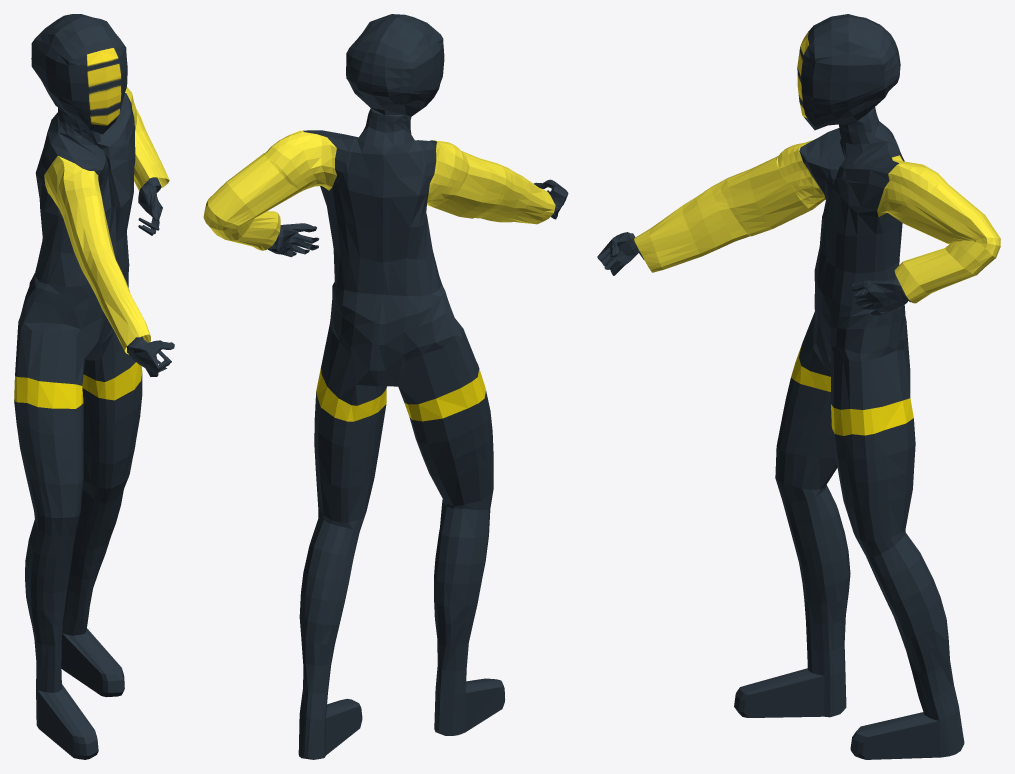
File: Sentry_WB_000013.obj
3 views of the same model, side by side, from view 1: azimuth 30°, elevation 25°; view 2: azimuth 150°, elevation 25°; view 3: azimuth 270°, elevation 25° (orthographic). The views are drawn at different scales.
Visible parts, largest first — view 1: Cube; view 2: Cube; view 3: Cube.
Boxes of the visible parts, x1=… form: Cube: x1=14, y1=14, x2=174, y2=759; Cube: x1=203, y1=14, x2=568, y2=759; Cube: x1=597, y1=14, x2=1000, y2=759.
Size of the model in its own units: 1.16 by 3.89 by 1.98.
